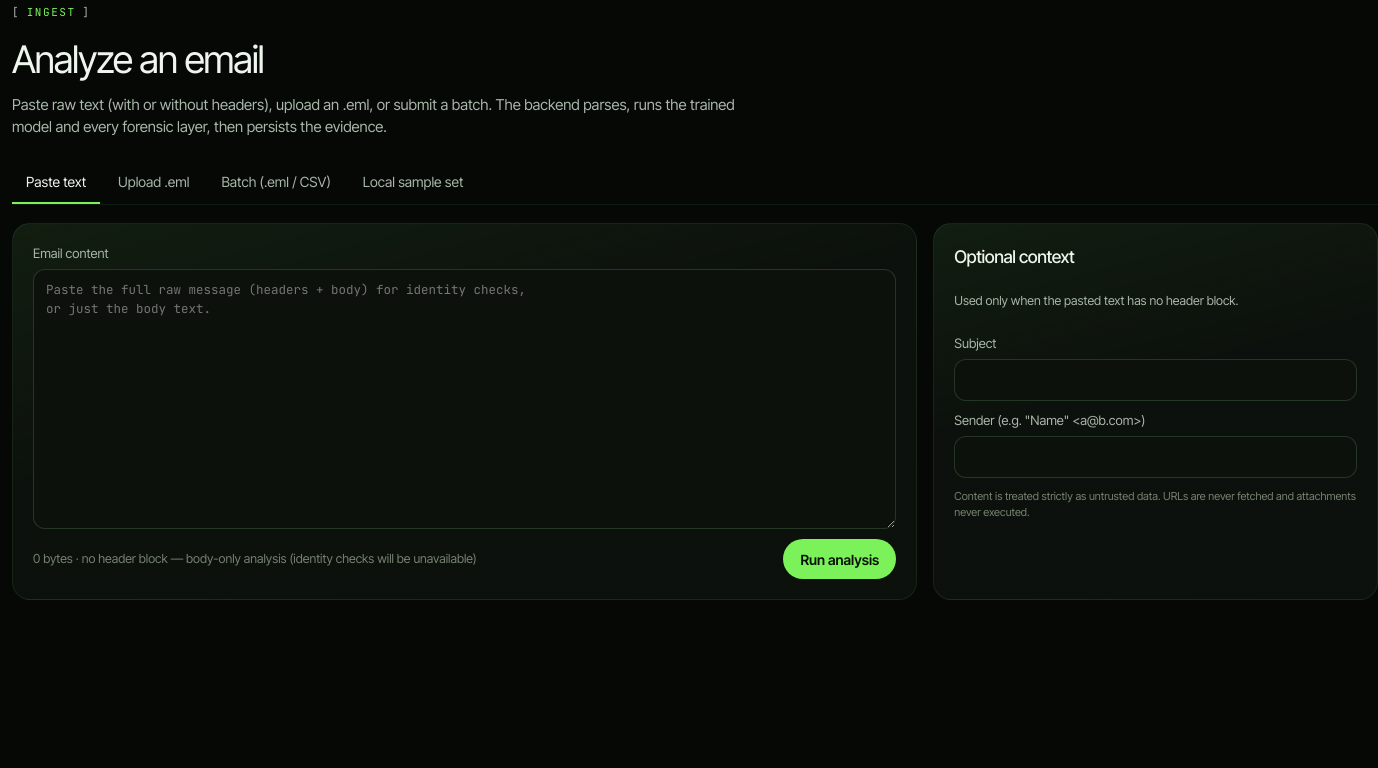
it: Analyze page › shows backend validation errors instead of a result
Type "x" into the text box labelled "Email content". click: [465, 399]
box: [33,269,896,529]
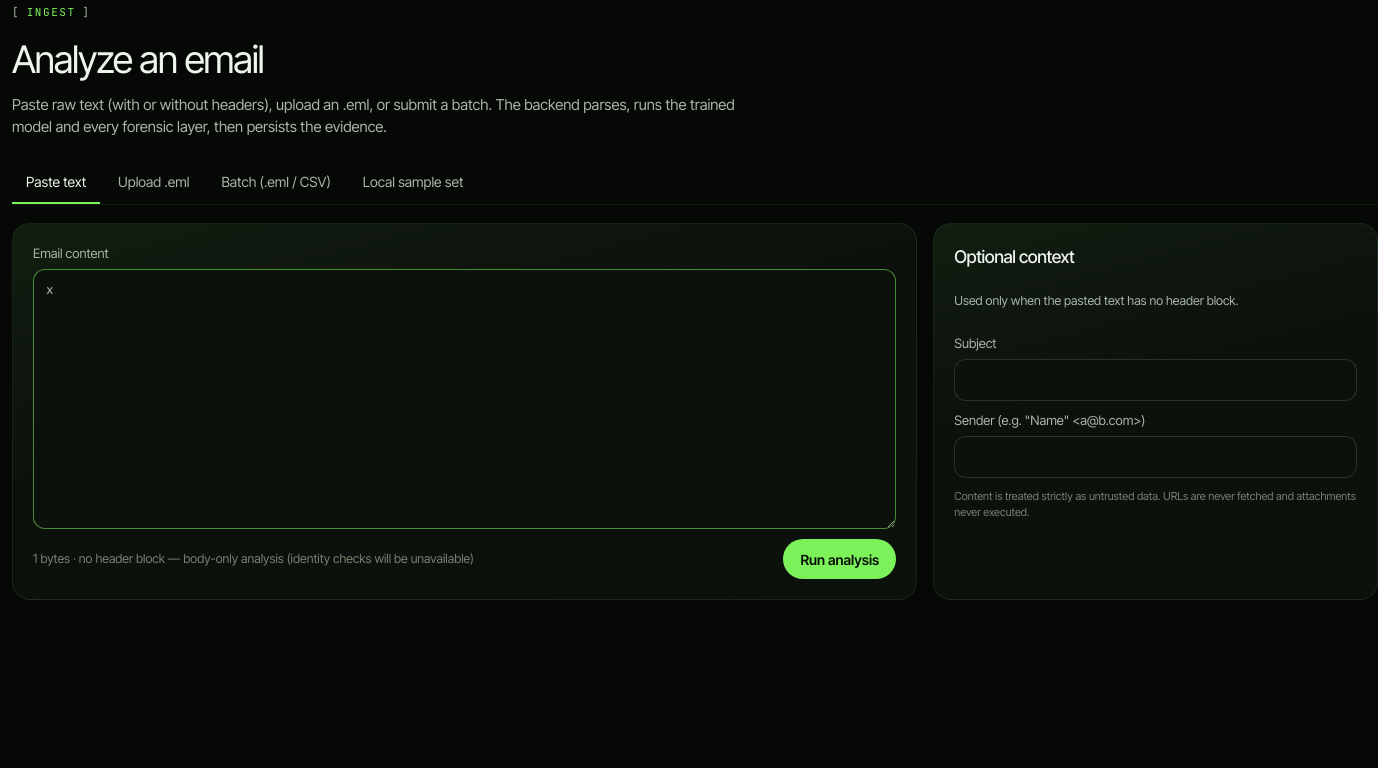
Click the button "Run analysis". click: [840, 559]
box: [783,539,896,579]
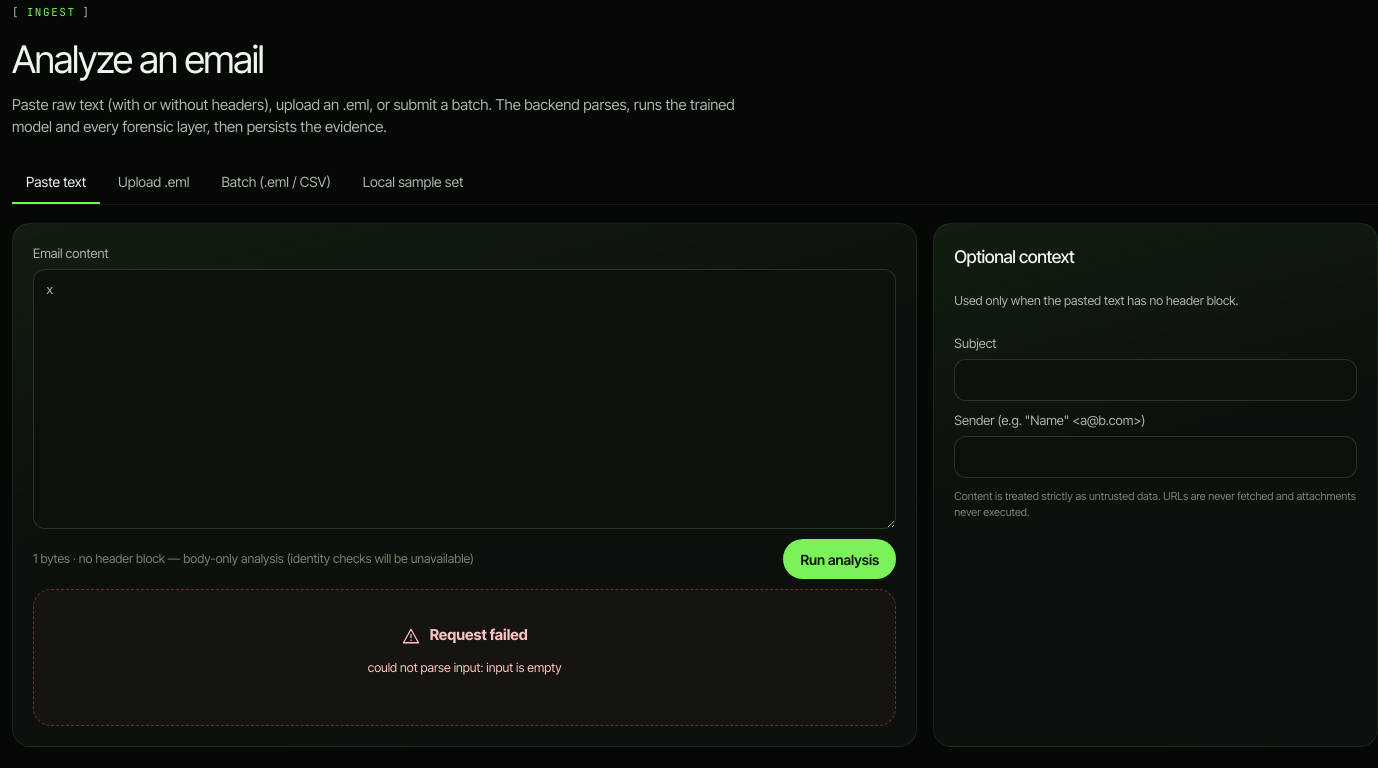
Result: the message shows "could not parse input" at [368,660,562,675]
